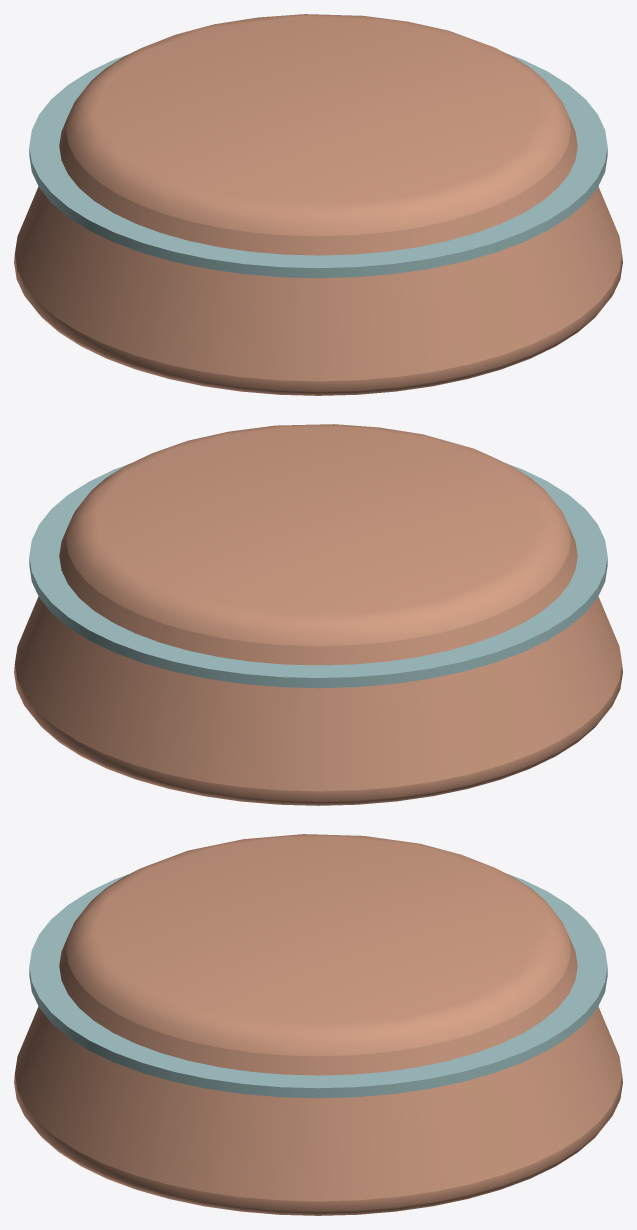
The model's file is thau.glb.
The picture shows the model from 3 angles, top to bottom: view 1: azimuth 30°, elevation 25°; view 2: azimuth 150°, elevation 25°; view 3: azimuth 270°, elevation 25°; orthographic projection.
Parts seen in each view (by area): view 1: thau; view 2: thau; view 3: thau.
Part boxes in pixels (x1,y1,x2,y2): thau: [14, 14, 622, 395]; thau: [14, 424, 622, 805]; thau: [14, 834, 622, 1215].
Bounding box in the file's own units: 0.2738 × 0.08 × 0.2738.
